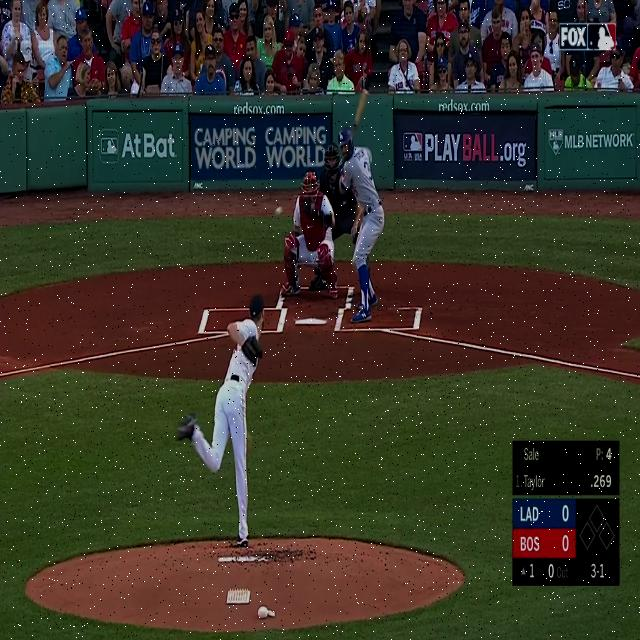baseball: (275, 205, 282, 218)
